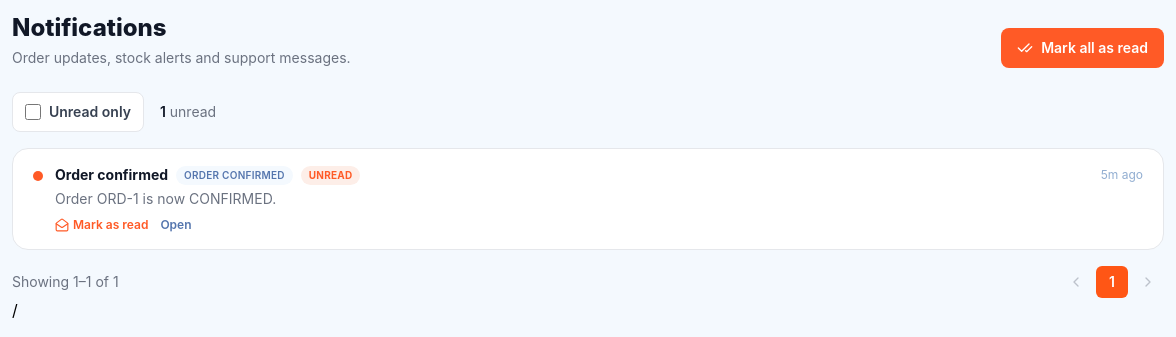
Test case: NotificationsList › marks the row read and navigates when opened
Click the button "Order confirmed": (112, 175) 55,165 -> 168,185
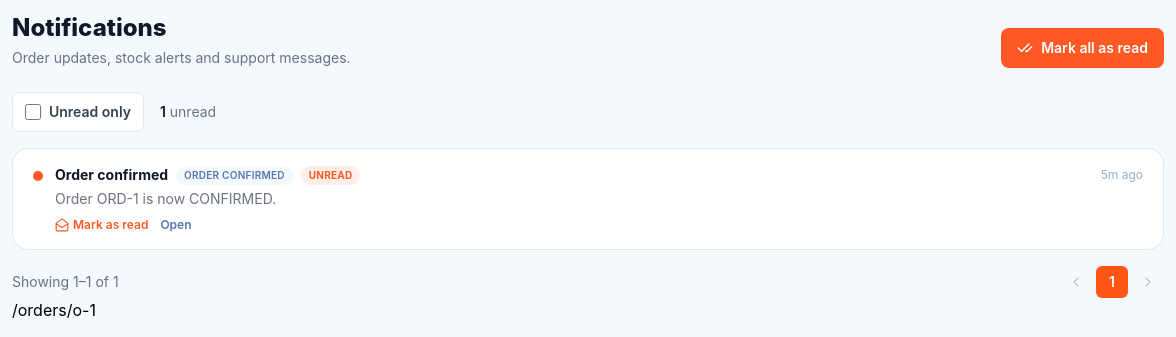
Check: the text with test id "location" reads "/orders/o-1", box 12,300 -> 96,320
